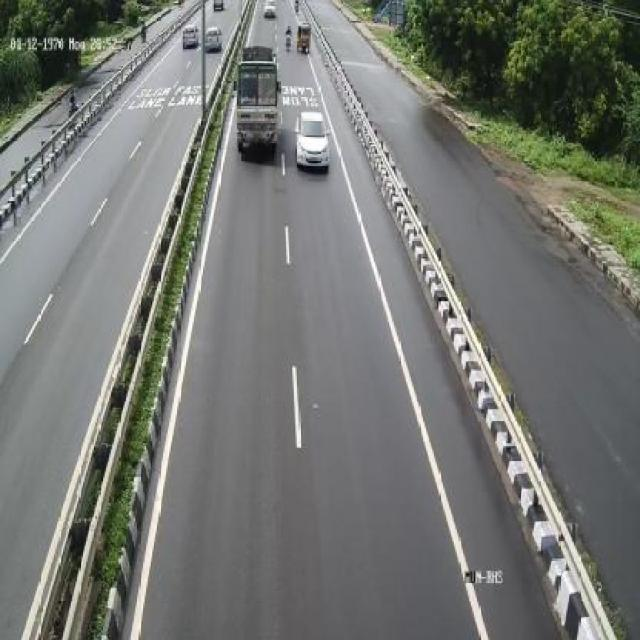car: (294, 94, 332, 177), (202, 25, 229, 60), (183, 18, 202, 54)
